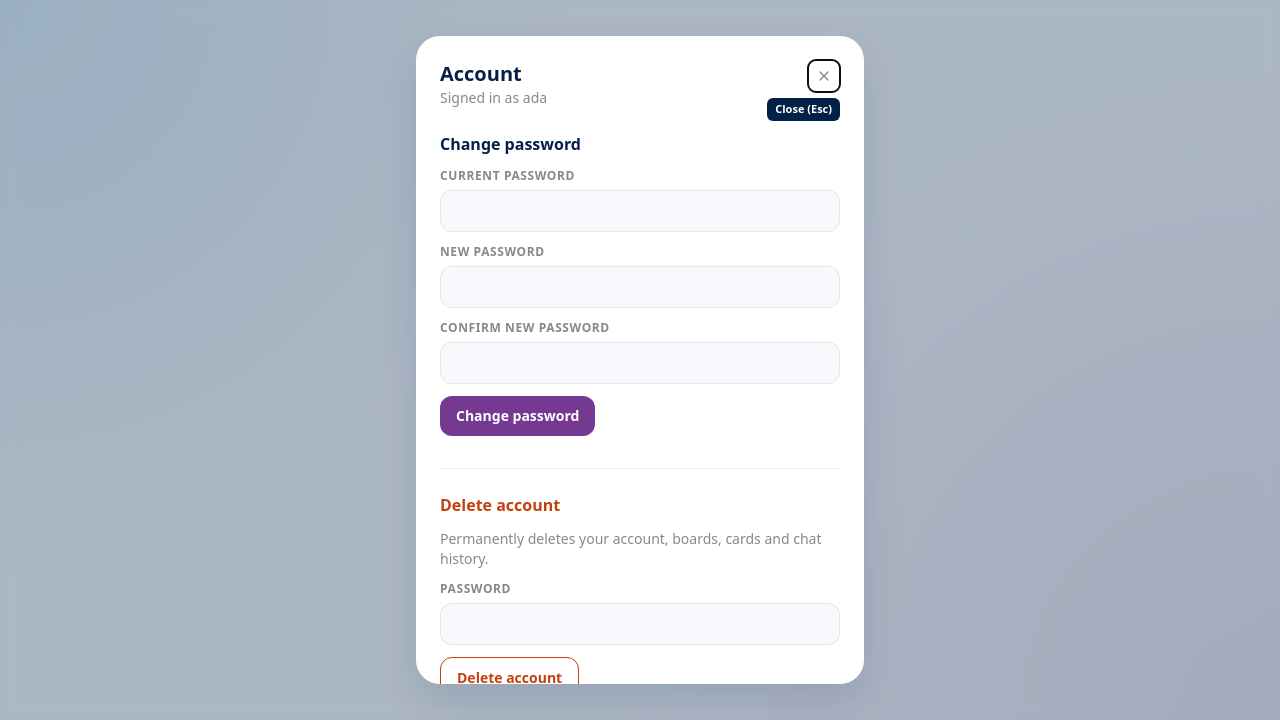
it: AccountDialog › changes the password and clears the form
The image size is (1280, 720).
Expected: the dialog "Account" shows "Signed in as ada", [440,88,547,107]
Type "old password" into the password field labelled "Current password" at (640, 211), box [440,190,840,232]
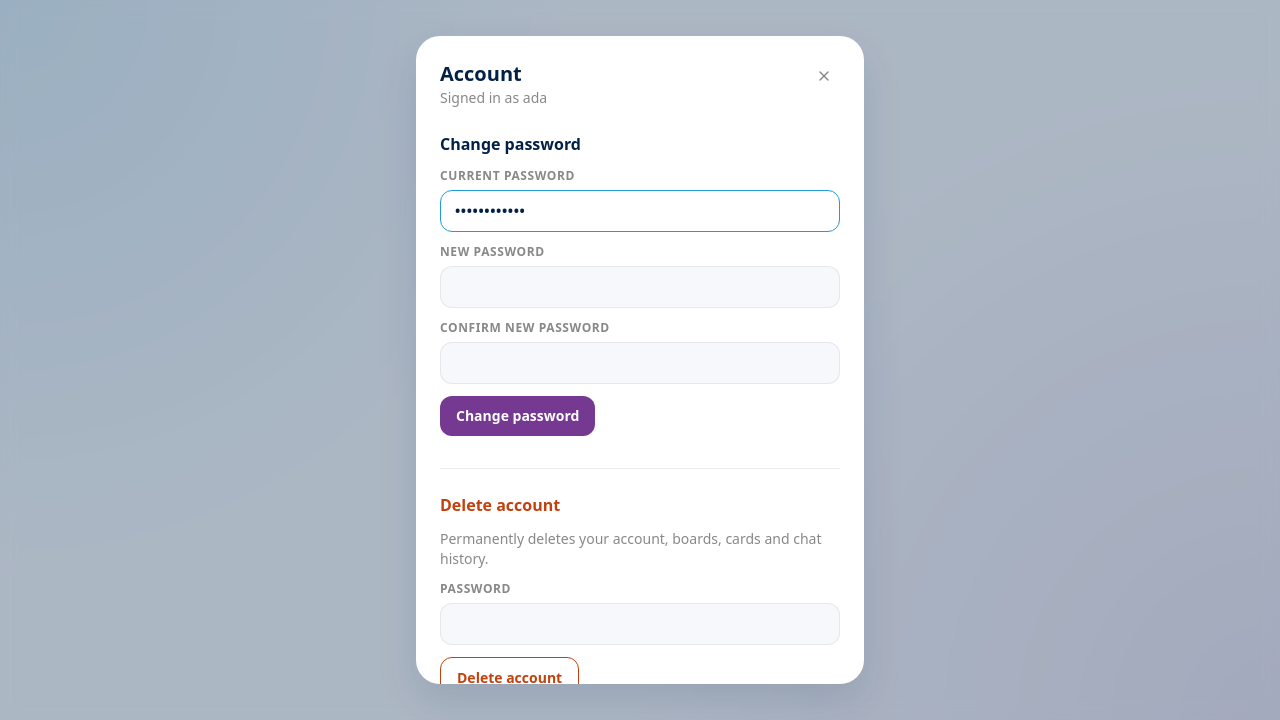
Type "new password" into the password field labelled "New password" at (640, 287), box [440,266,840,308]
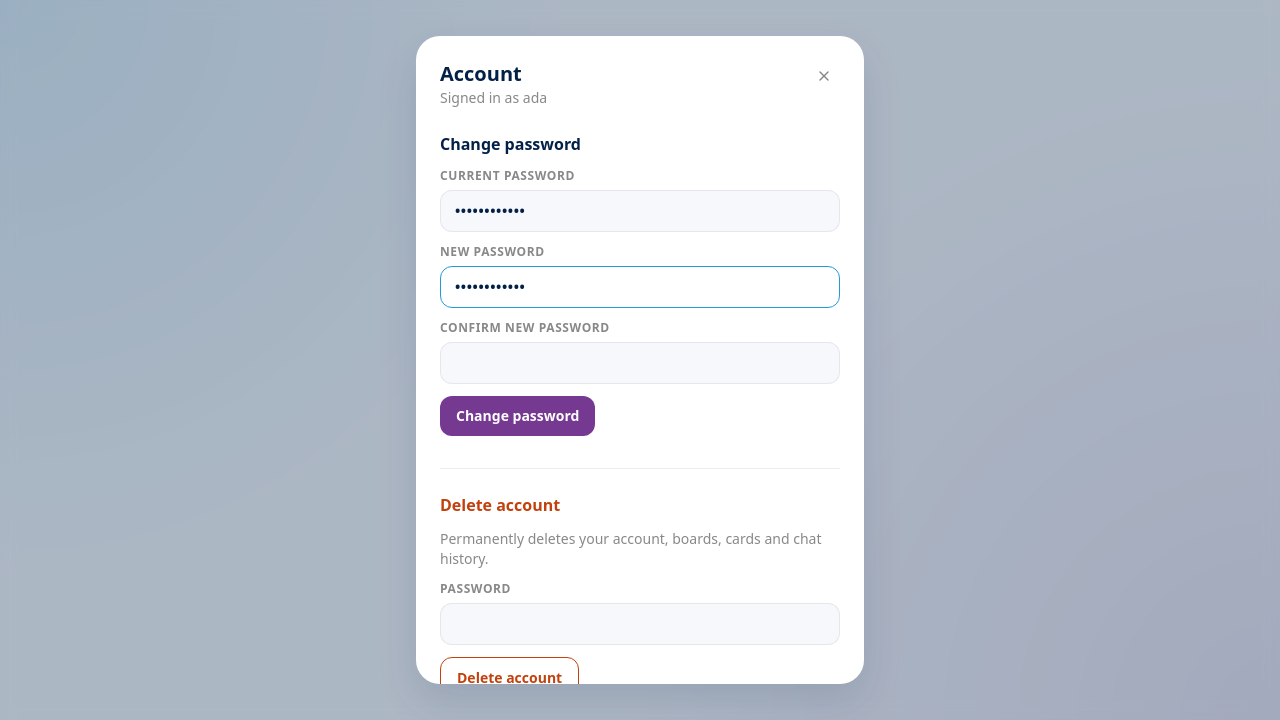
Type "new password" into the password field labelled "Confirm new password" at (640, 363), box [440,342,840,384]
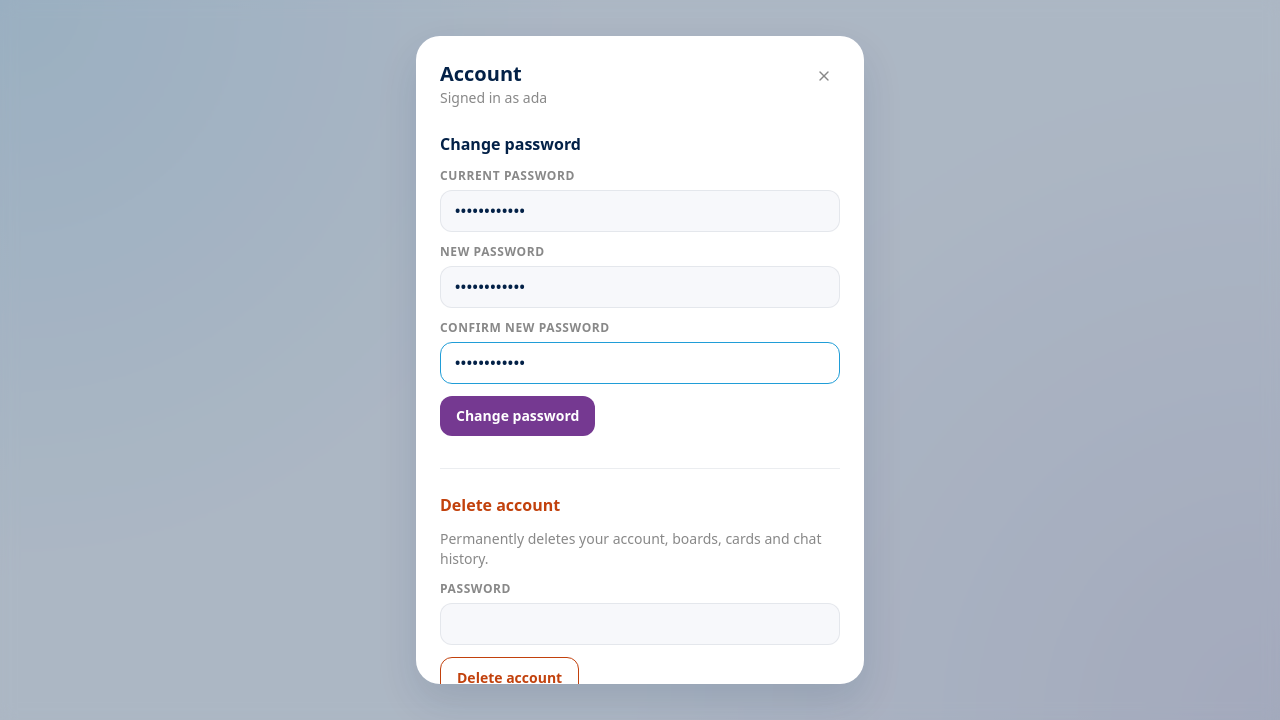
Click the button "Change password" at (518, 416), box [440,396,595,436]
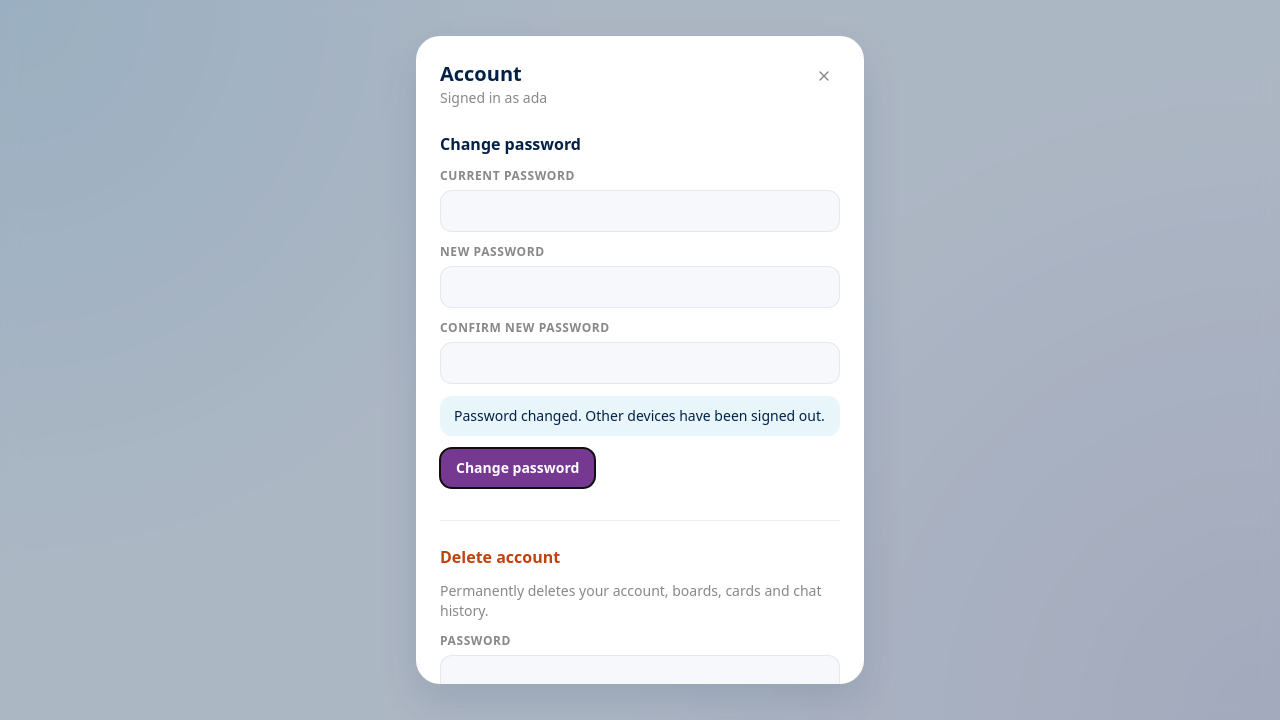
Expected: the message shows "Password changed.", [454,406,825,425]
Expected: the password field labelled "Current password" is empty, [440,190,840,232]
